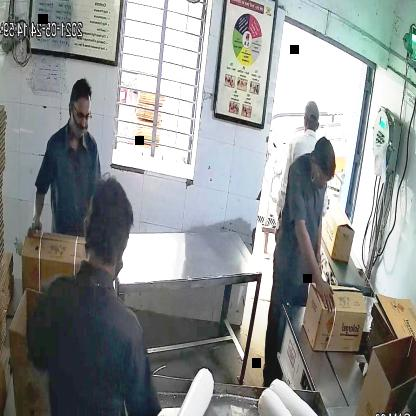goggles: (69, 104, 95, 127)
